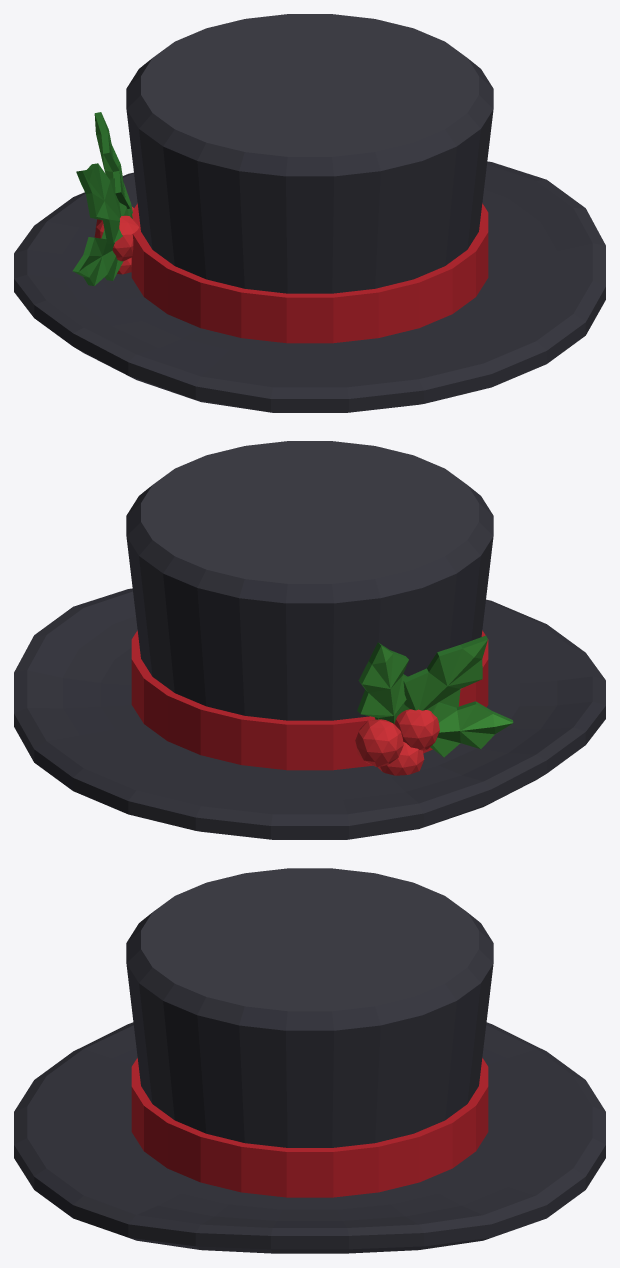
The model's file is Cosmetic_Frosty_Hat.glb.
3 views of the same model, one above another, from view 1: azimuth 30°, elevation 25°; view 2: azimuth 150°, elevation 25°; view 3: azimuth 270°, elevation 25° (orthographic).
Visible parts, largest first — view 1: Cosmetic_Frosty_Hat; view 2: Cosmetic_Frosty_Hat; view 3: Cosmetic_Frosty_Hat.
Part boxes in pixels (<box>): Cosmetic_Frosty_Hat: <box>14,14,605,412</box>; Cosmetic_Frosty_Hat: <box>14,441,605,839</box>; Cosmetic_Frosty_Hat: <box>14,868,605,1253</box>.
Bounding box in the file's own units: 0.8824 × 0.342 × 0.8824.
